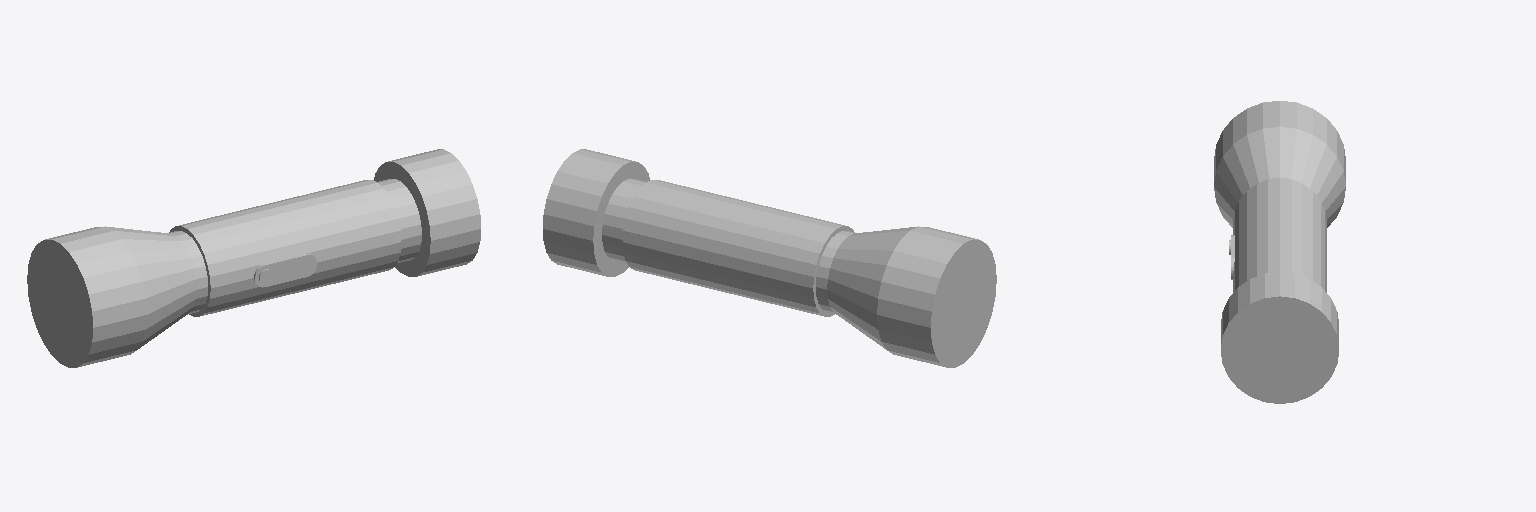
The model's file is Lanterna.obj.
3 views of the same model, side by side, from view 1: azimuth 30°, elevation 25°; view 2: azimuth 150°, elevation 25°; view 3: azimuth 270°, elevation 25° (orthographic).
Visible parts, largest first — view 1: Mesh1 Flashlight1 Component_3__13_1 Model; view 2: Mesh1 Flashlight1 Component_3__13_1 Model; view 3: Mesh1 Flashlight1 Component_3__13_1 Model.
Boxes of the visible parts, <box> form: Mesh1 Flashlight1 Component_3__13_1 Model: <box>27,149,480,367</box>; Mesh1 Flashlight1 Component_3__13_1 Model: <box>543,149,996,367</box>; Mesh1 Flashlight1 Component_3__13_1 Model: <box>1214,101,1345,403</box>.
Bounding box in the file's own units: 1.36 × 0.3991 × 0.3991.